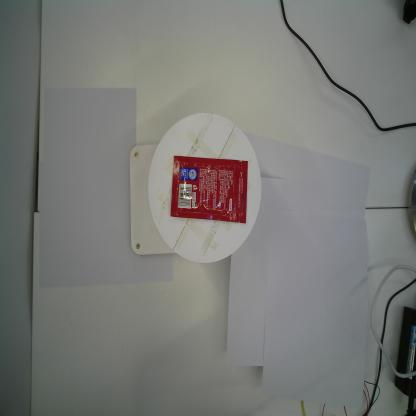Seasoner: (169, 154, 248, 225)
